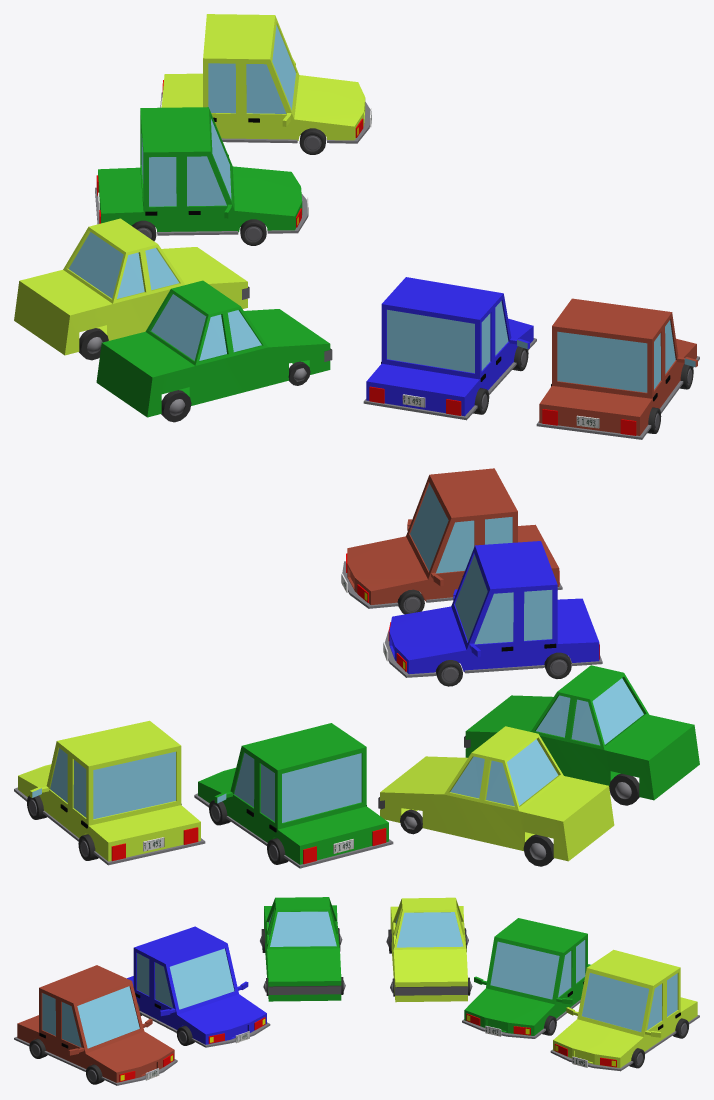
The model's file is autos.fbx.
3 views of the same model, one above another, from view 1: azimuth 30°, elevation 25°; view 2: azimuth 150°, elevation 25°; view 3: azimuth 270°, elevation 25° (orthographic). The views are drawn at different scales.
Visible parts, largest first — view 1: Box004, Autorojo, Autorojo002, Autorojo001, Autorojo003, Box005; view 2: Autorojo002, Box005, Autorojo, Autorojo001, Box004, Autorojo003; view 3: Autorojo003, Autorojo001, Autorojo002, Autorojo, Box004, Box005.
Boxes of the visible parts, bbox=[...] form: Box004: bbox=[96, 280, 332, 422]; Autorojo: bbox=[95, 107, 308, 245]; Autorojo002: bbox=[363, 277, 536, 420]; Autorojo001: bbox=[160, 14, 371, 154]; Autorojo003: bbox=[536, 298, 699, 439]; Box005: bbox=[14, 218, 249, 360]; Autorojo002: bbox=[383, 541, 602, 686]; Box005: bbox=[378, 726, 614, 866]; Autorojo: bbox=[194, 723, 393, 868]; Autorojo001: bbox=[14, 720, 205, 865]; Box004: bbox=[464, 665, 699, 805]; Autorojo003: bbox=[341, 468, 562, 614]; Autorojo003: bbox=[14, 965, 177, 1085]; Autorojo001: bbox=[550, 949, 699, 1071]; Autorojo002: bbox=[127, 926, 270, 1047]; Autorojo: bbox=[462, 918, 590, 1038]; Box004: bbox=[260, 897, 345, 1001]; Box005: bbox=[386, 897, 472, 1002].
Bounding box in the file's own units: 402 × 693 × 109.
2 materials, 2 textured.
